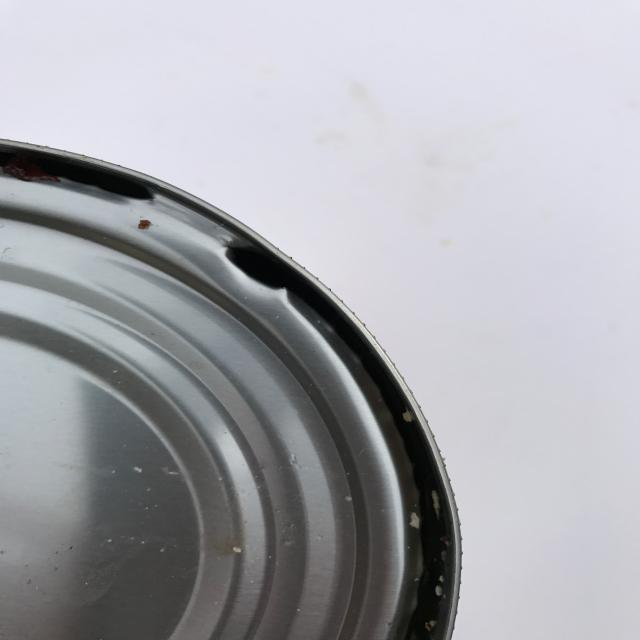Metal: (0, 122, 486, 640)
